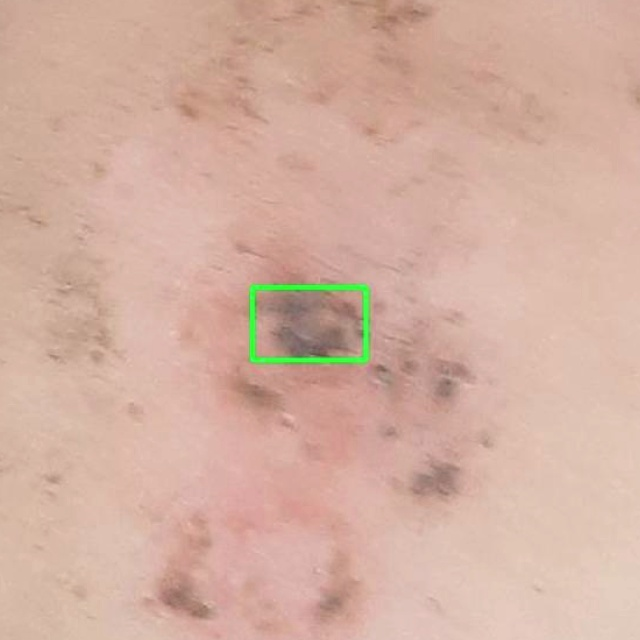Contact Dermatitis: (252, 287, 366, 360)
